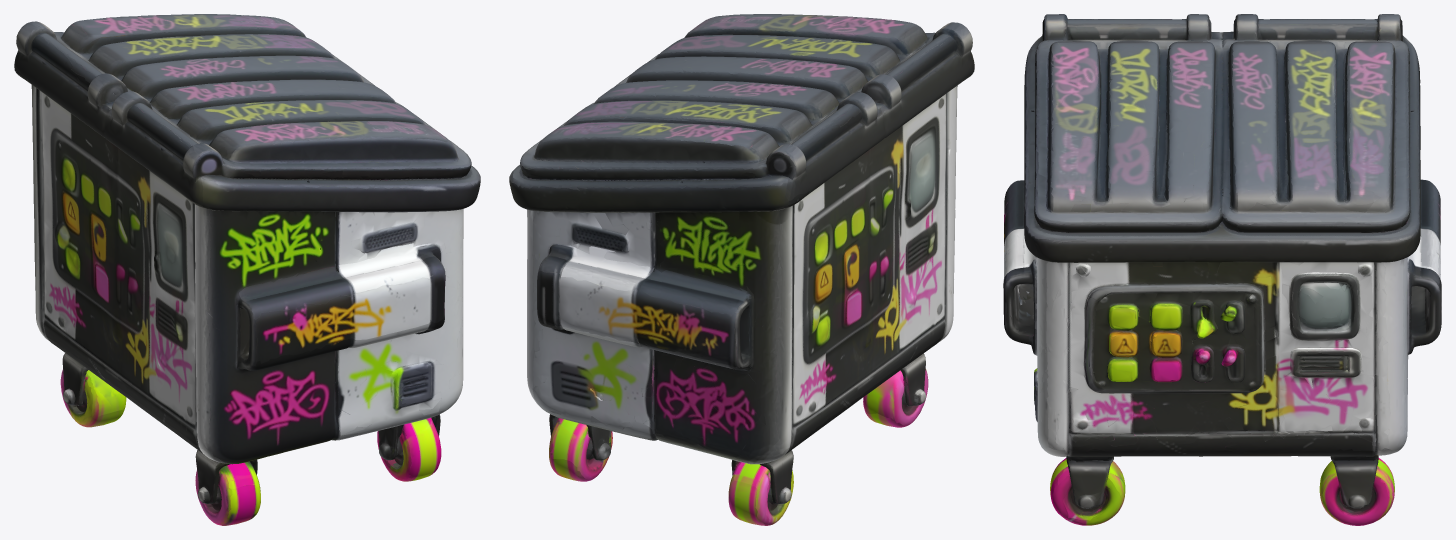
File: u_prp_dumpster.glb
3 views of the same model, side by side, from view 1: azimuth 30°, elevation 25°; view 2: azimuth 150°, elevation 25°; view 3: azimuth 270°, elevation 25° (orthographic).
Visible parts, largest first — view 1: geometry_0; view 2: geometry_0; view 3: geometry_0.
Boxes of the visible parts, box(x1,y1,x2,y2) form: geometry_0: box(14, 14, 480, 525); geometry_0: box(509, 14, 974, 525); geometry_0: box(1003, 14, 1441, 525).
Size of the model in its own units: 0.5546 by 0.7 by 0.7002.
Materials: 1 (1 with a texture image).
